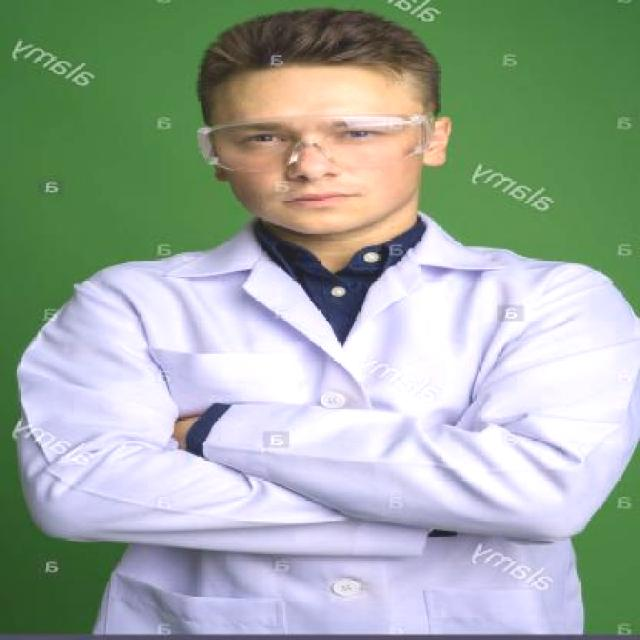face_nomask: (223, 108, 402, 225)
glasses: (199, 111, 443, 175)
head_nohelmet: (189, 11, 442, 98)
person: (68, 15, 608, 640)
